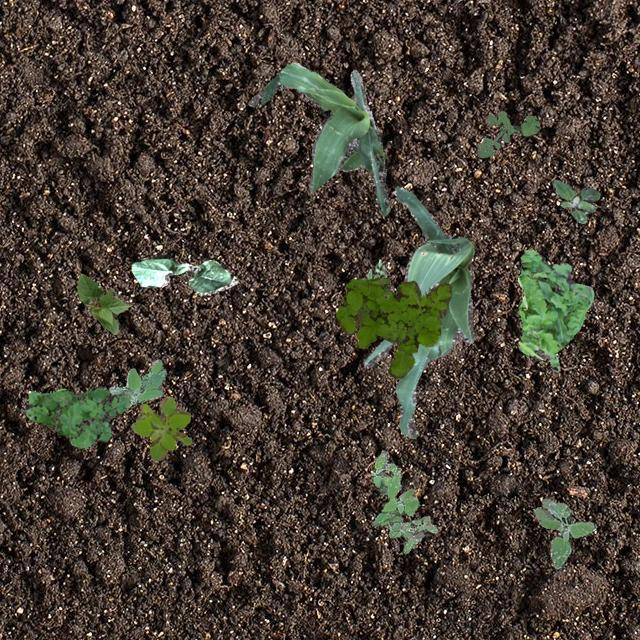crop: (364, 185, 474, 438), (248, 61, 388, 216), (128, 254, 236, 294), (76, 272, 130, 334)
weed: (334, 276, 450, 378), (516, 248, 592, 370), (23, 384, 128, 448), (371, 449, 436, 552), (532, 498, 596, 568), (130, 394, 190, 460), (476, 110, 538, 156), (108, 358, 166, 402), (550, 178, 598, 222), (360, 258, 386, 278)
